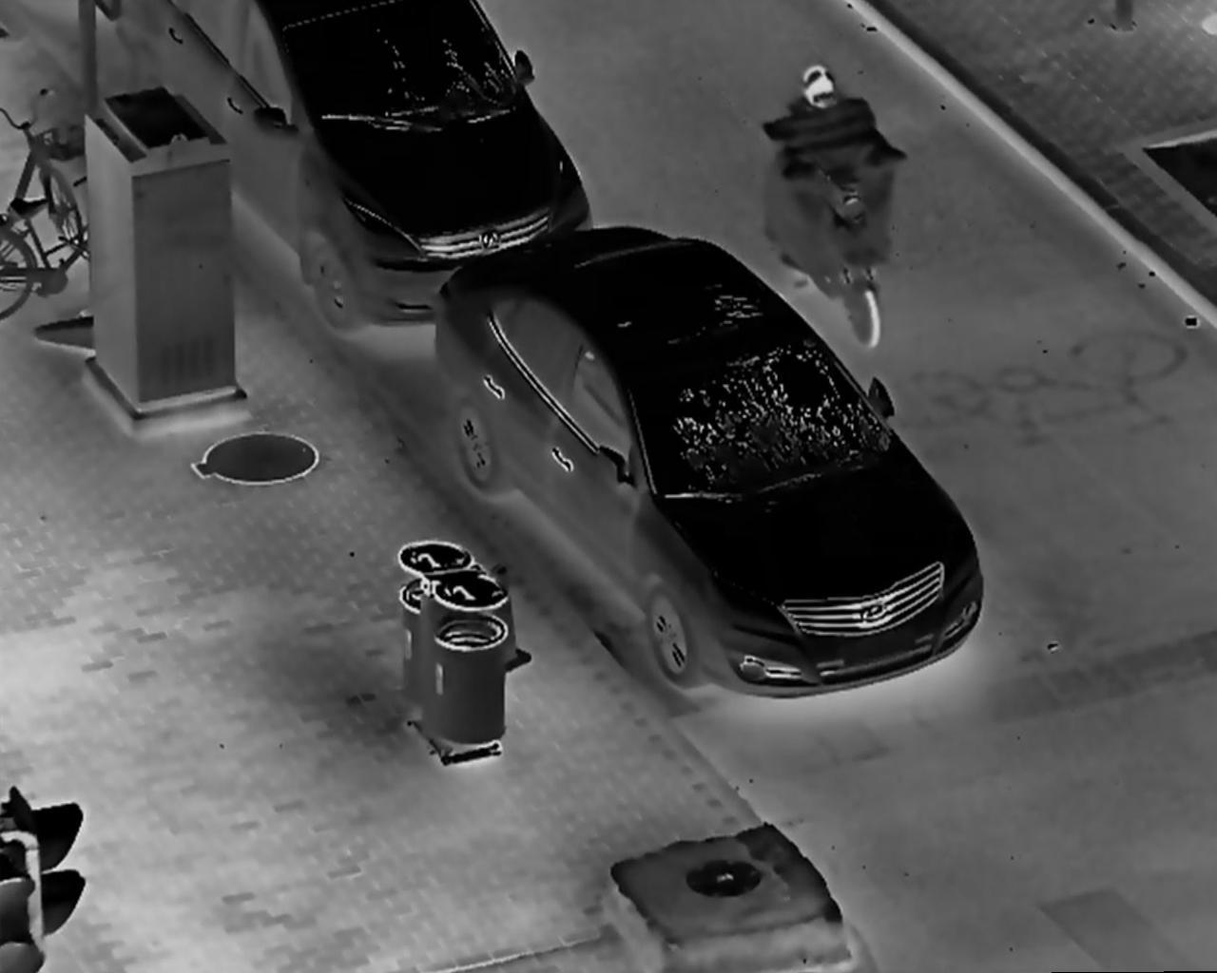person: (781, 59, 874, 256)
